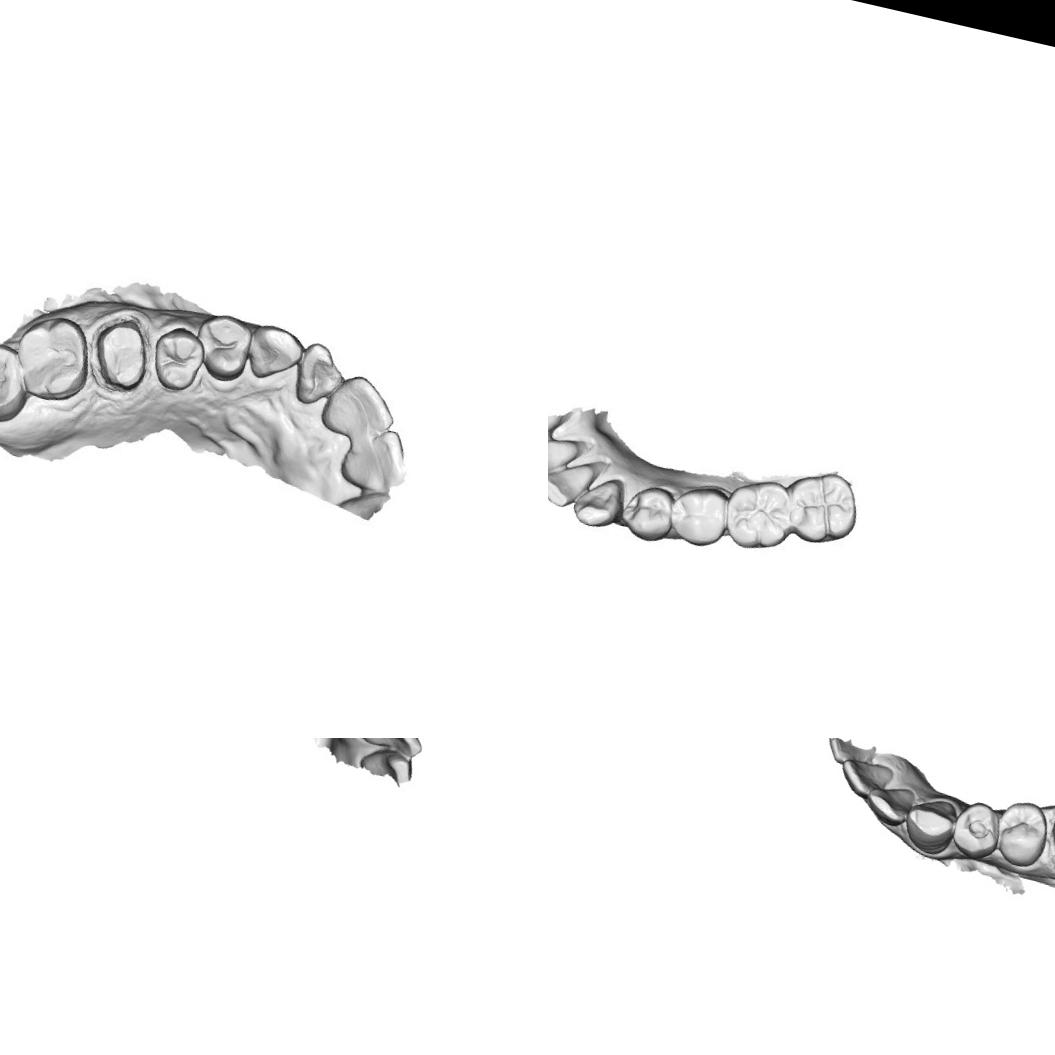canine: (898, 792, 960, 860), (243, 320, 307, 385), (567, 470, 628, 538)
crown: (90, 314, 156, 395)
incisor: (322, 370, 398, 443), (346, 424, 412, 497), (294, 340, 347, 408), (834, 753, 896, 804), (861, 778, 918, 830), (548, 452, 599, 510), (354, 738, 431, 762), (548, 433, 580, 476)
molar: (15, 314, 95, 400), (784, 467, 864, 540), (722, 480, 798, 555), (0, 336, 34, 419)
premolar: (192, 310, 258, 389), (990, 795, 1055, 872), (145, 320, 207, 397), (946, 796, 1006, 866), (668, 484, 732, 548), (623, 488, 677, 542)
